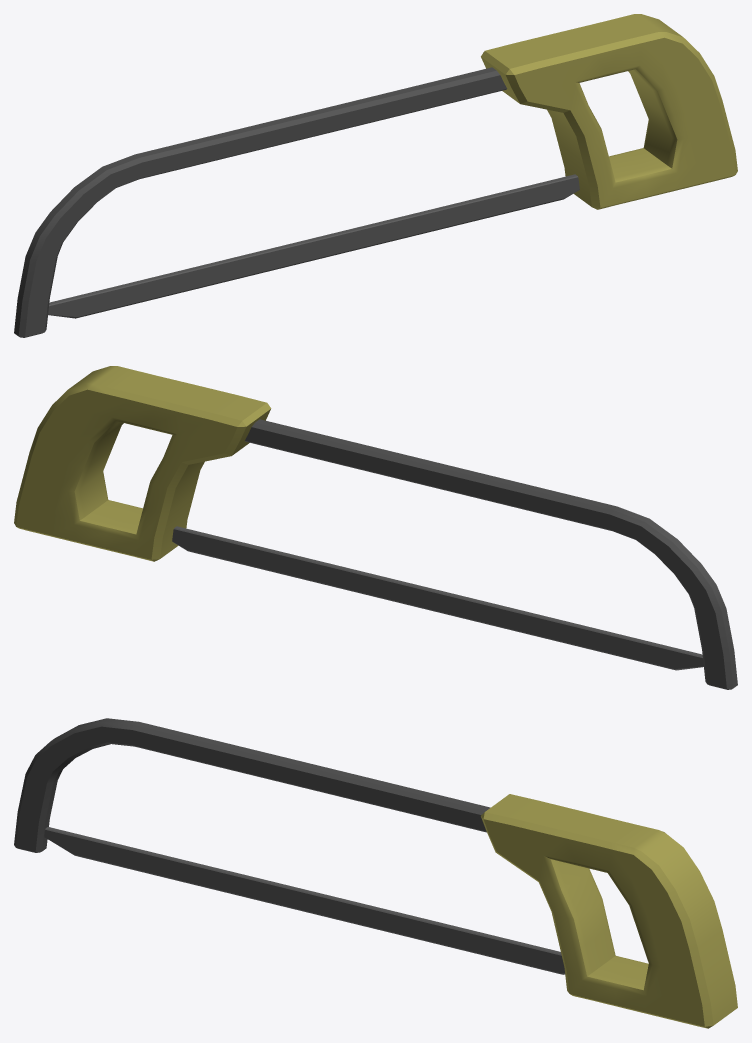
The model's file is hacksaw.fbx.
The picture shows the model from 3 angles, top to bottom: view 1: azimuth 30°, elevation 25°; view 2: azimuth 150°, elevation 25°; view 3: azimuth 330°, elevation 25°; orthographic projection.
Parts seen in each view (by area): view 1: hacksaw; view 2: hacksaw; view 3: hacksaw.
Boxes of the visible parts, x1,y1,x2,y2 form: hacksaw: [14, 14, 737, 337]; hacksaw: [14, 366, 737, 689]; hacksaw: [14, 718, 737, 1028].
Bounding box in the file's own units: 29.71 × 6.52 × 2.25.
